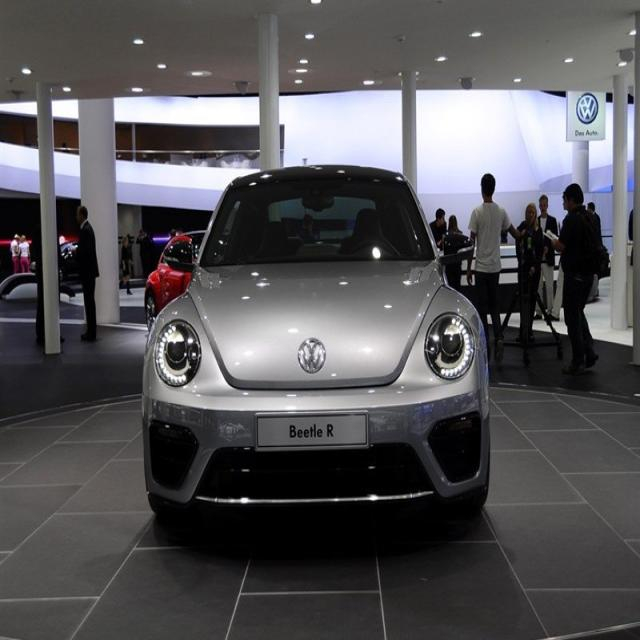front_bumper: (142, 359, 492, 507)
front_glass: (199, 176, 435, 272)
front_left_side_light: (424, 310, 476, 382)
front_left_side_mirror: (440, 232, 476, 266)
front_right_side_light: (156, 318, 202, 388)
front_right_side_mirror: (164, 238, 198, 277)
